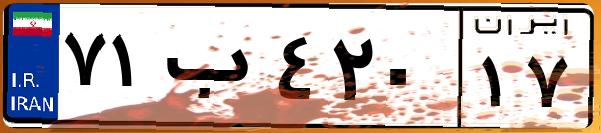0: (385, 28, 445, 110)
1: (475, 38, 525, 113), (110, 28, 158, 98)
2: (330, 28, 385, 110)
4: (270, 28, 330, 110)
7: (57, 26, 110, 100), (525, 38, 570, 115)
ب: (158, 20, 270, 120)
